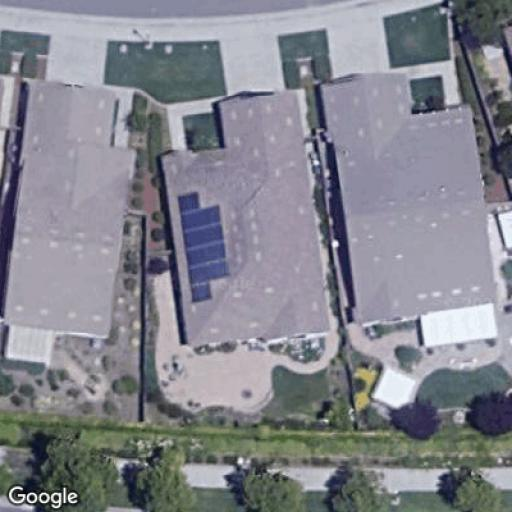solar-panel: (176, 190, 230, 302)
